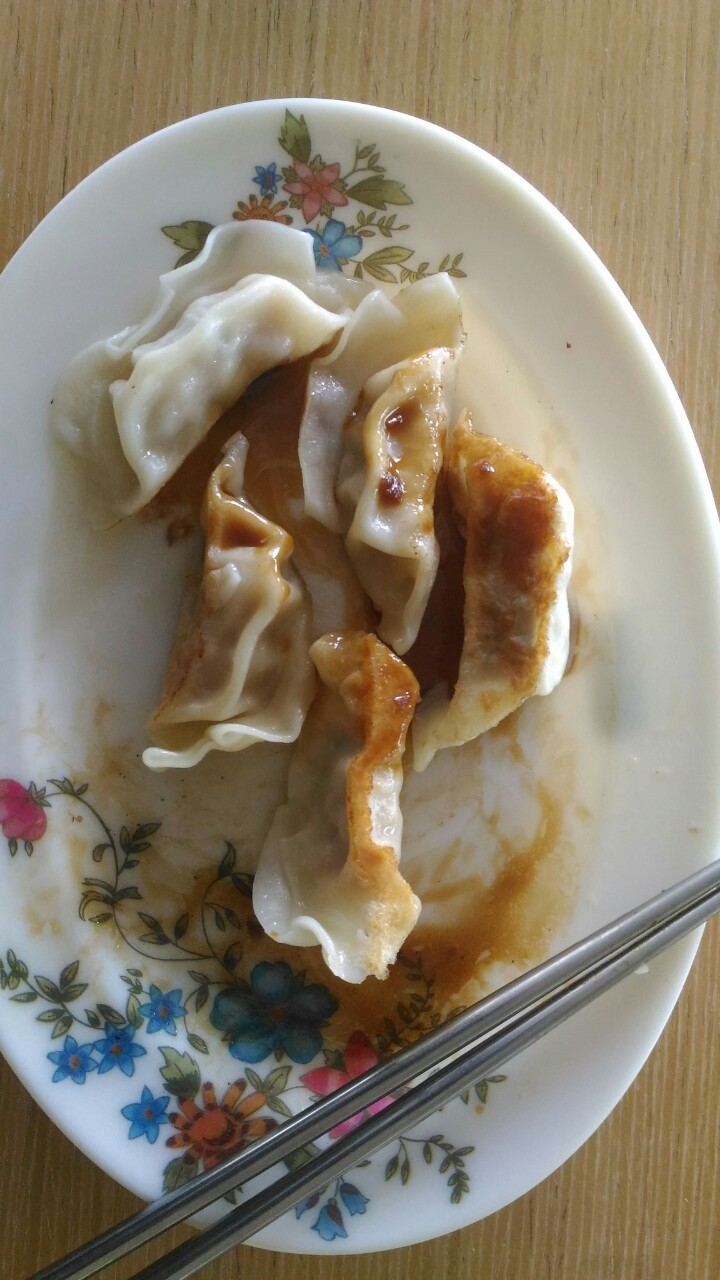fried_dumplings: (70, 224, 582, 986)
